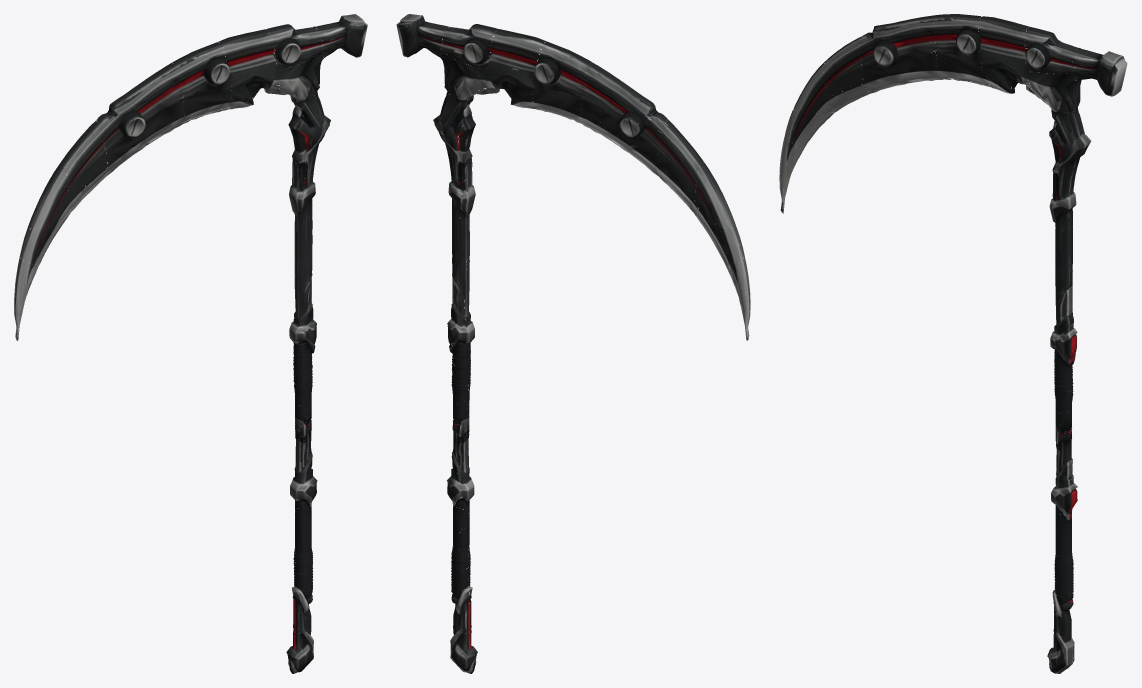
File: w_red_tension_hi3d.glb
3 renders of one model, left to right at view 1: azimuth 30°, elevation 25°; view 2: azimuth 150°, elevation 25°; view 3: azimuth 330°, elevation 25°, orthographic.
Visible parts, largest first — view 1: red_tension_scythe; view 2: red_tension_scythe; view 3: red_tension_scythe.
Boxes of the visible parts, box(x1,y1,x2,y2) form: red_tension_scythe: box(14, 14, 367, 673); red_tension_scythe: box(396, 14, 750, 673); red_tension_scythe: box(779, 14, 1127, 673).
Size of the model in its own units: 1.07 by 1.91 by 0.0931.
1 material, 1 textured.
